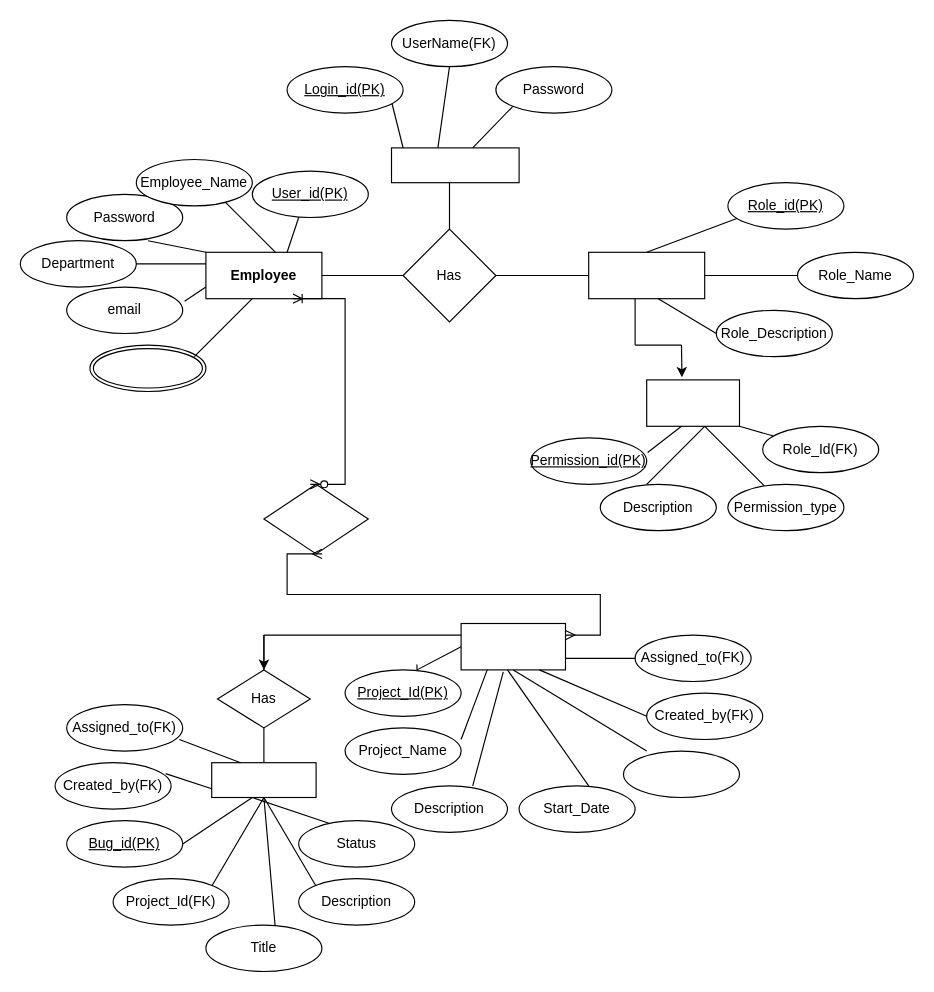
Image size: 934x992. Some labels were removed from this diagram. The shapes that lost their labels are listed below. From the top down, each one's centre as x and y in pixels, then its label:
At point 454,165: "Login".
At point 646,275: "Role".
At point 147,368: "Employee_Mob".
At point 693,402: "Permission".
At point 315,518: "Manage".
At point 513,646: "Project".
At point 263,780: "Bug".
At point 681,774: "End_Date".
